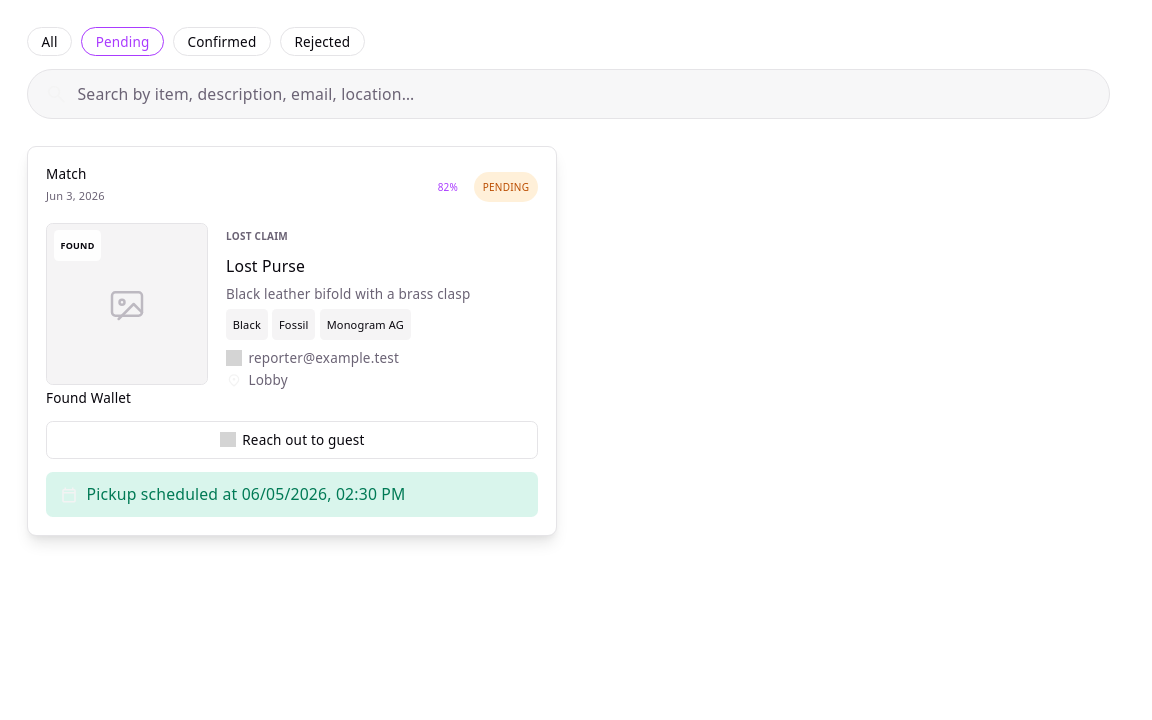
<Matching /> › filters cards client-side by the search query
This screenshot has width=1152, height=720.
Click the tab "All": (50, 42) [27,27,72,56]
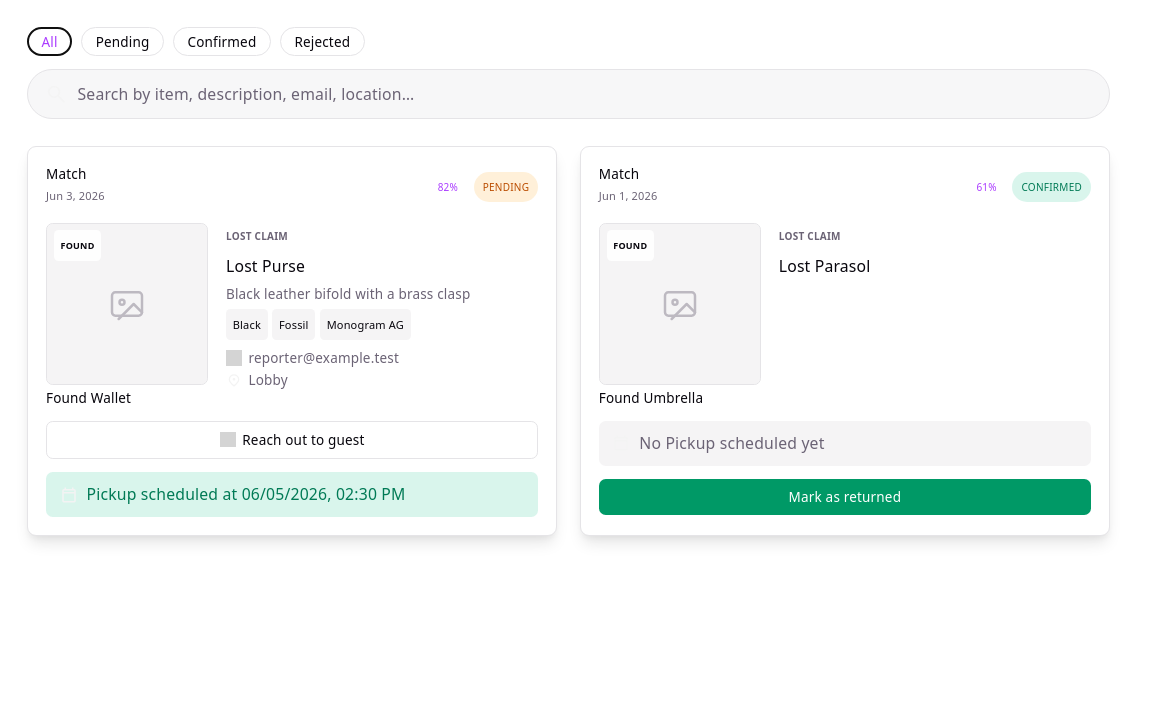
Expected: the text "Found Wallet" is shown, [46,389,131,407]
In the search field named "search matches": (568, 94) [27,70,1110,119], type "umbrella"
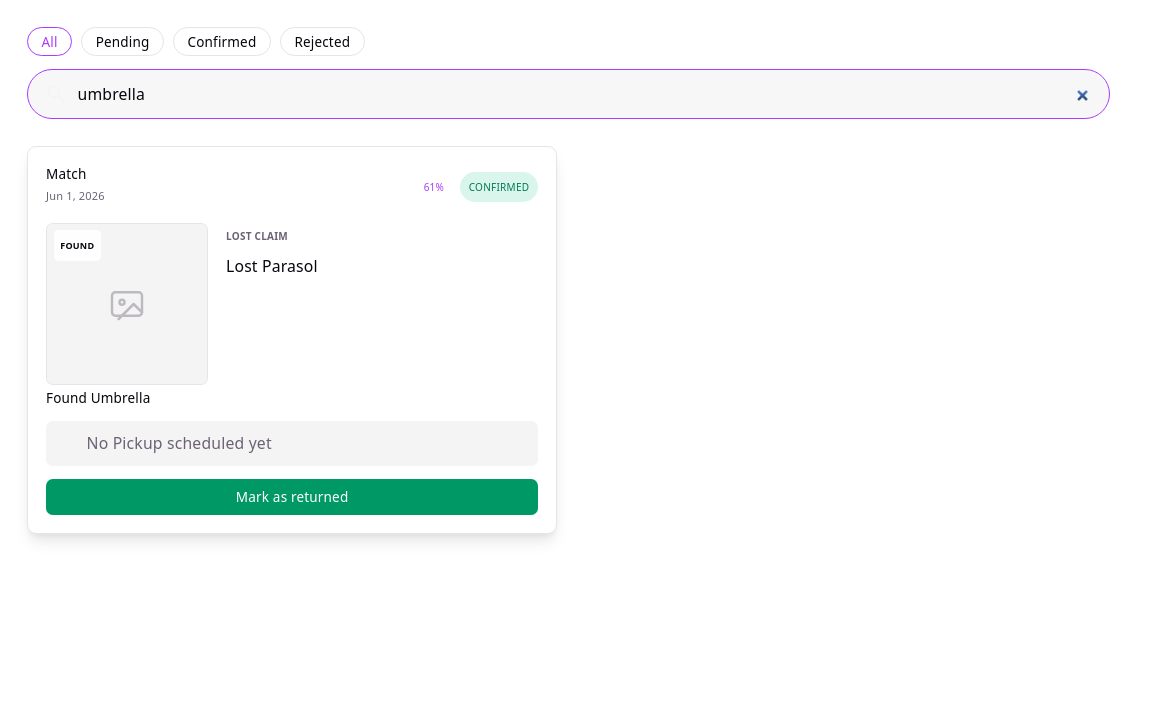
Now the text "Found Umbrella" is shown, box [46,389,150,407]
Now the text "Found Wallet" is gone
